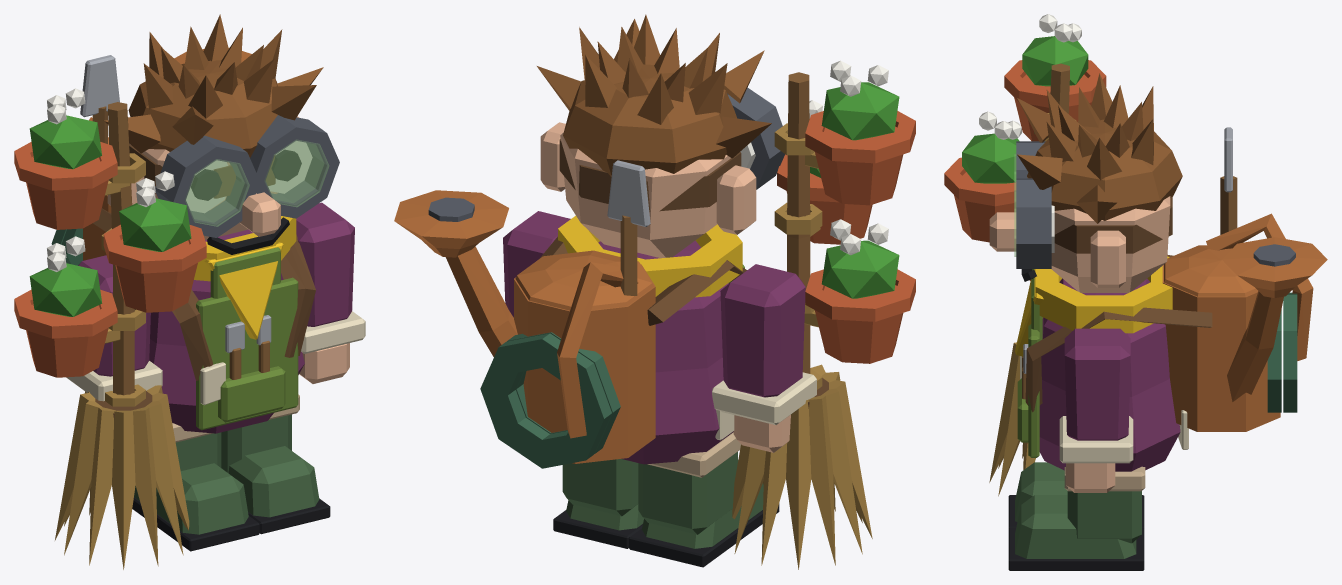
Rendered from BarryPlotter.fbx.
3 renders of one model, left to right at view 1: azimuth 30°, elevation 25°; view 2: azimuth 150°, elevation 25°; view 3: azimuth 270°, elevation 25°, orthographic. The views are drawn at different scales.
Visible parts, largest first — view 1: Pots, Hair, Bristles, Apron, GoggleRims, Plants, LeftLegWellie, GoggleLens, RightLegWellie, LeftArm, Torso, Scarf (+21 smaller); view 2: WateringCan, Hair, Pots, Bristles, Torso, Hose, RightArm, RightLegWellie, Head, Plants, LeftLegWellie, Scarf (+16 smaller); view 3: WateringCan, Hair, Torso, LeftLegWellie, LeftArm, Pots, Scarf, Head, Plants, GoggleRims, FaceNose, PackStraps (+14 smaller).
Part boxes in pixels (x1,y1,x2,y2): Pots: (14, 141, 206, 377); Hair: (104, 14, 323, 157); Bristles: (55, 385, 189, 569); Apron: (196, 247, 298, 430); GoggleRims: (155, 115, 339, 237); Plants: (29, 115, 191, 316); LeftLegWellie: (221, 414, 319, 517); GoggleLens: (185, 140, 329, 226); RightLegWellie: (134, 432, 248, 534); LeftArm: (296, 202, 354, 326); Torso: (149, 229, 304, 433); Scarf: (194, 216, 296, 339); WateringCan: (394, 190, 655, 463); Hair: (537, 14, 771, 176); Pots: (777, 111, 915, 363); Bristles: (732, 364, 872, 569); Torso: (598, 240, 733, 464); Hose: (480, 332, 620, 468); RightArm: (720, 264, 805, 397); RightLegWellie: (638, 452, 763, 548); Head: (560, 132, 730, 258); Plants: (810, 82, 899, 298); LeftLegWellie: (562, 459, 643, 530); Scarf: (558, 215, 742, 297); WateringCan: (1162, 213, 1327, 431); Hair: (1017, 73, 1182, 223); Torso: (1039, 278, 1180, 471); LeftLegWellie: (1015, 491, 1141, 558); LeftArm: (1064, 328, 1130, 440); Pots: (944, 60, 1106, 280); Scarf: (1015, 256, 1172, 356); Head: (1051, 196, 1170, 292); Plants: (962, 36, 1088, 183); GoggleRims: (1016, 141, 1051, 268); FaceNose: (989, 212, 1125, 287); PackStraps: (1025, 255, 1212, 412).
Bounding box in the file's own units: 5.62 × 6.9 × 5.42.
